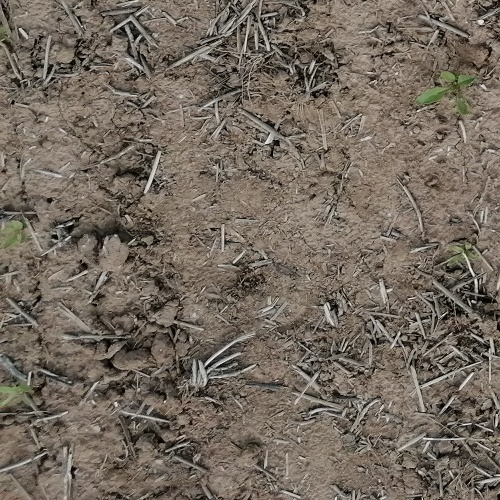beet: (415, 70, 474, 114), (0, 384, 35, 408), (0, 221, 25, 246)
